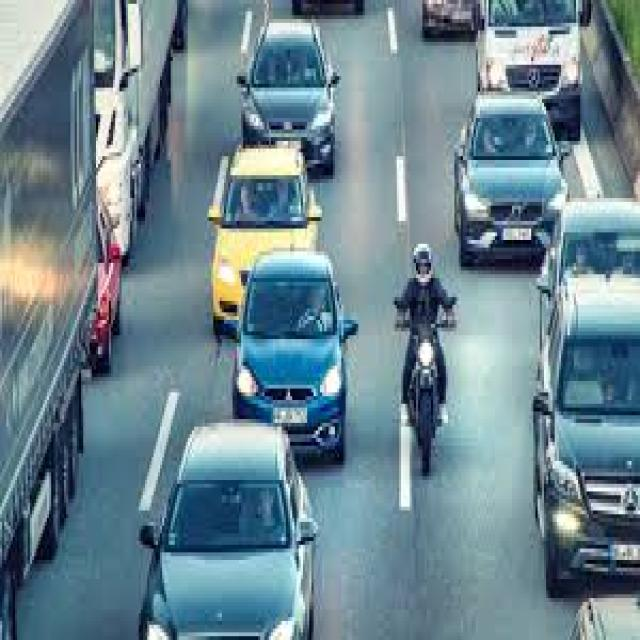moderate_traffic: (145, 5, 576, 625)
